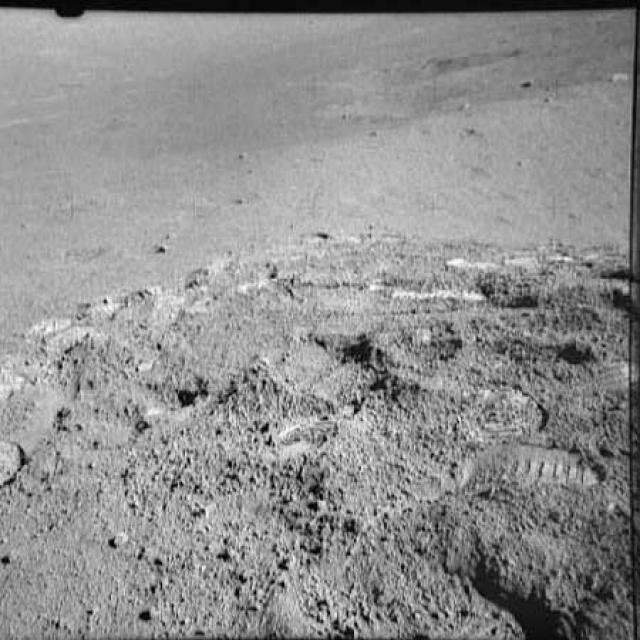crater: (394, 550, 579, 638), (288, 38, 548, 89), (11, 237, 127, 272)
